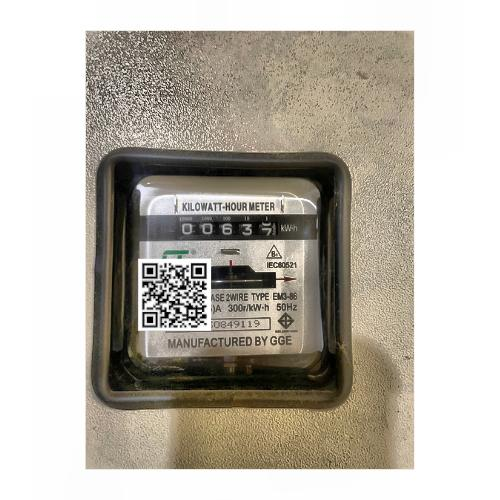qr_code: (139, 259, 212, 331)
